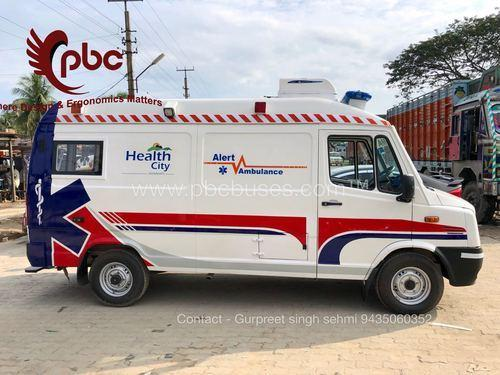Emergency-Vehicles: (28, 93, 494, 313)
